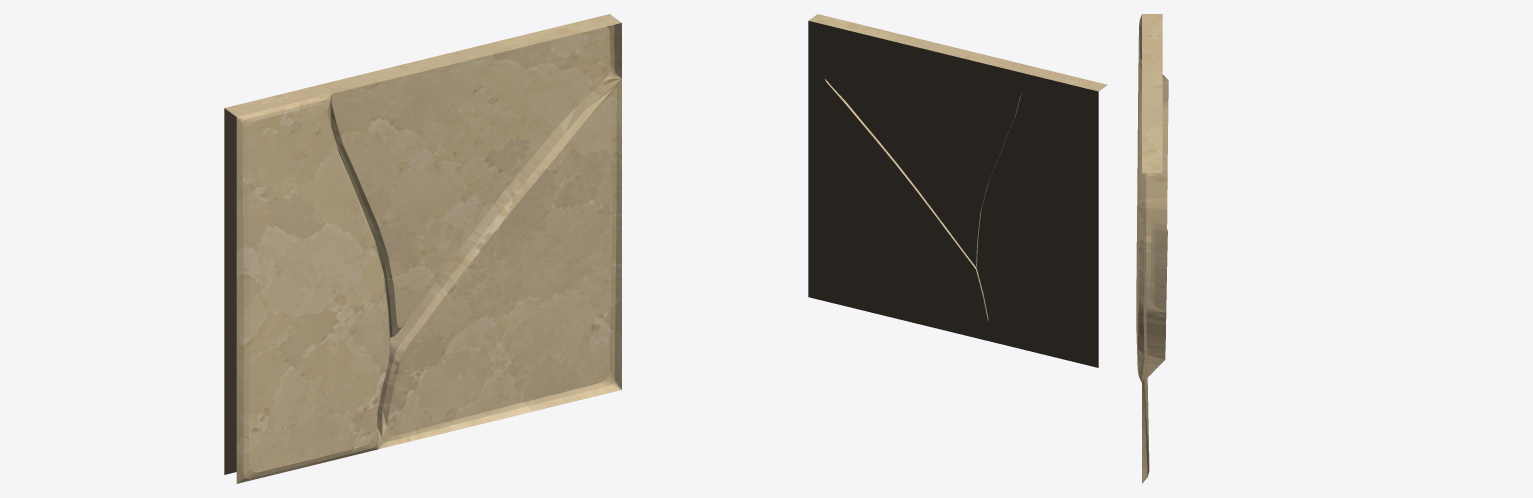
The model's file is ground_edge_08.glb.
3 views of the same model, side by side, from view 1: azimuth 30°, elevation 25°; view 2: azimuth 150°, elevation 25°; view 3: azimuth 270°, elevation 25° (orthographic). The views are drawn at different scales.
Visible parts, largest first — view 1: GroundEdge08_Body; view 2: GroundEdge08_Body; view 3: GroundEdge08_Body.
Boxes of the visible parts, left/top/right/bottom form: GroundEdge08_Body: left=224, top=14, right=621, bottom=483; GroundEdge08_Body: left=808, top=14, right=1107, bottom=367; GroundEdge08_Body: left=1136, top=14, right=1168, bottom=483.
Size of the model in its own units: 1 by 0.91 by 1.02.
Materials: 5 (4 with a texture image).
